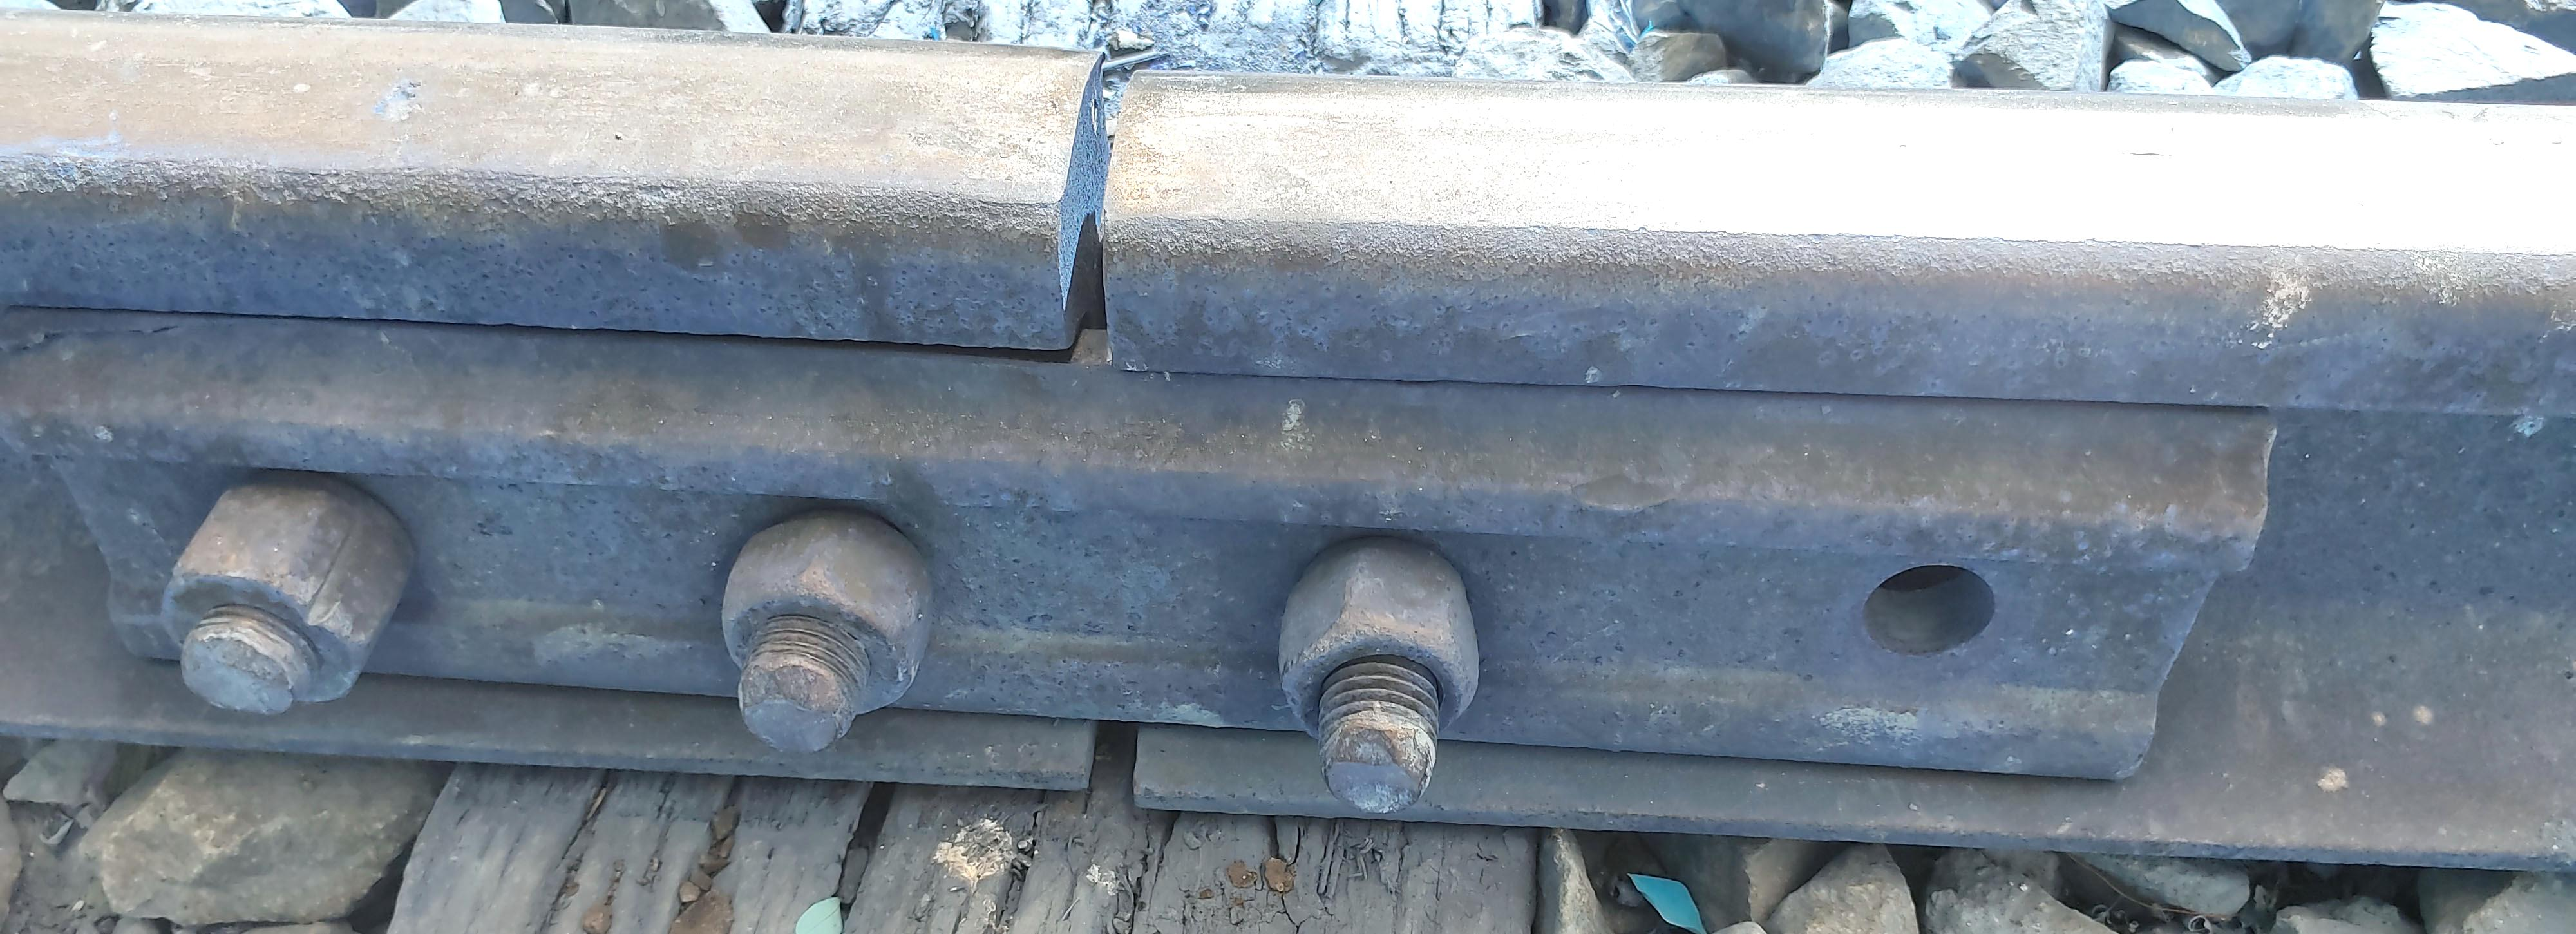error2: (982, 7, 1263, 388)
